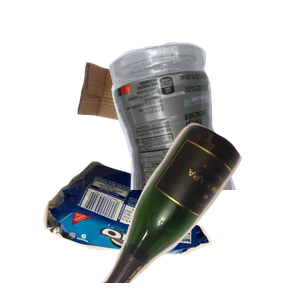cardboard: (75, 59, 237, 176)
glass: (87, 120, 300, 300)
plastic: (106, 40, 300, 220)
trash: (40, 158, 245, 300)
